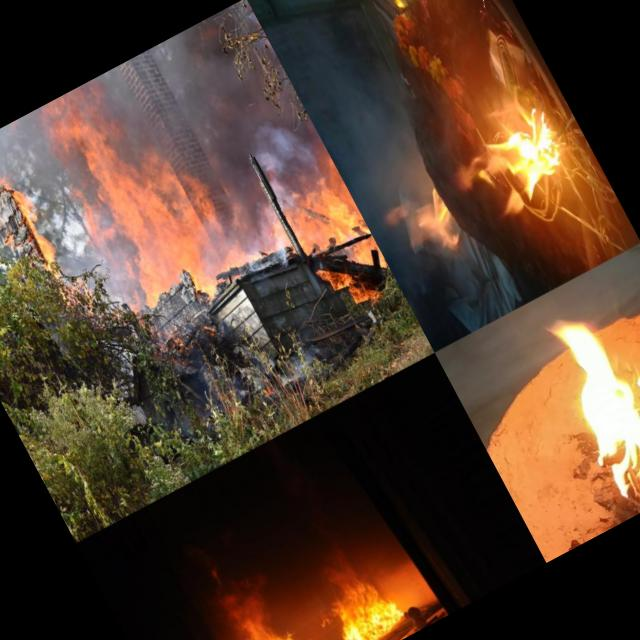fire: (494, 252, 640, 502), (70, 137, 246, 312), (290, 8, 389, 162), (389, 195, 489, 340), (258, 160, 374, 278), (33, 80, 134, 192), (309, 565, 411, 640), (0, 160, 65, 269), (317, 252, 378, 318), (232, 601, 319, 640), (538, 257, 568, 290), (0, 170, 9, 206)
smoke: (297, 0, 499, 275), (140, 0, 332, 215), (13, 144, 103, 274), (90, 54, 184, 164), (228, 200, 287, 270), (0, 111, 48, 192)
